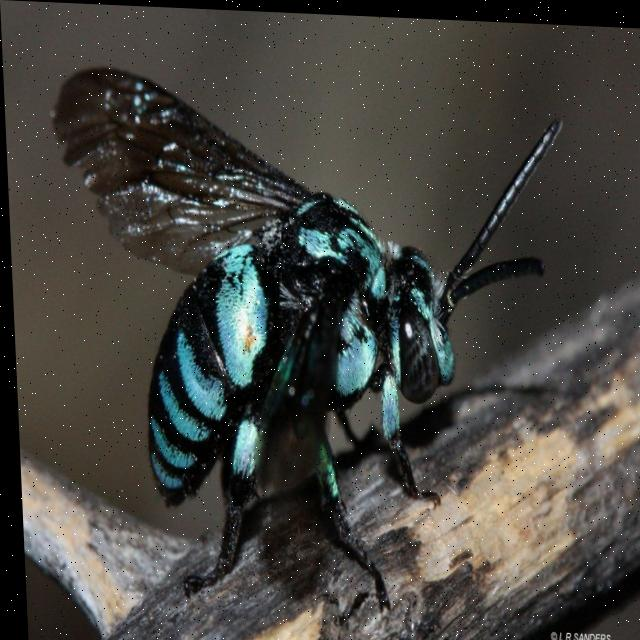Thyreus: (42, 44, 589, 617)
